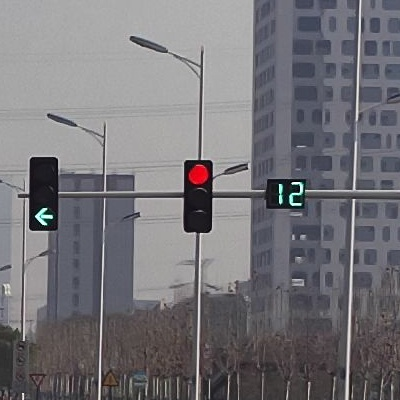green_arrow_left: (30, 156, 59, 231)
red_circle: (184, 160, 212, 234)
